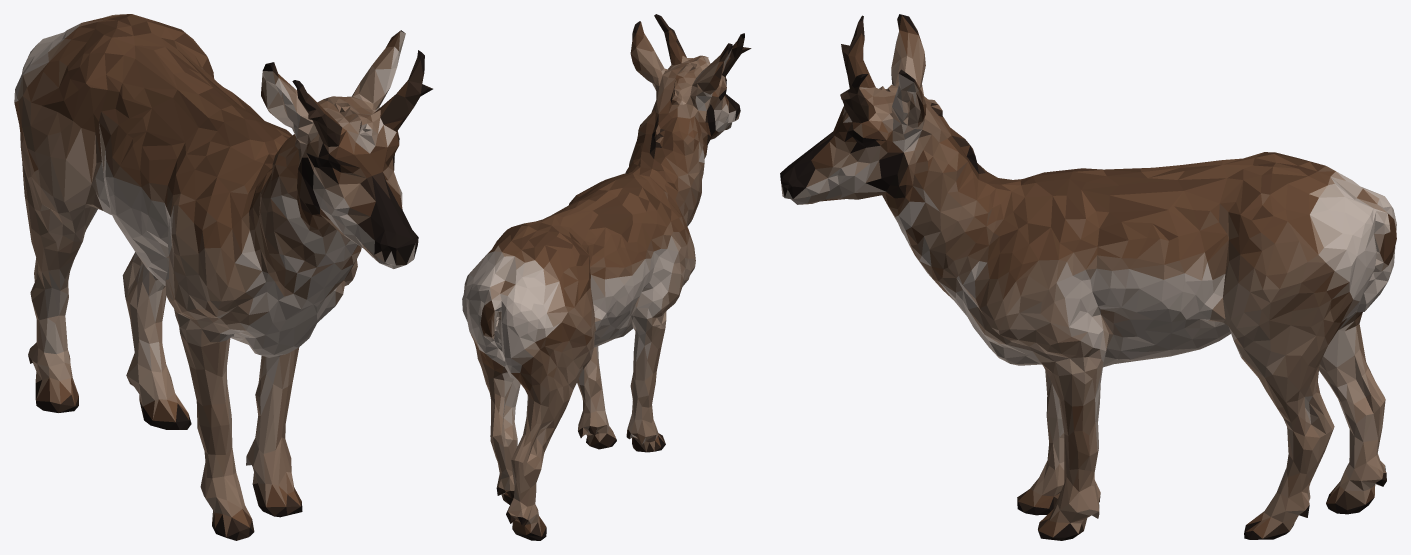
Rendered from antilocapra_americana.glb.
The picture shows the model from 3 angles, left to right: view 1: azimuth 30°, elevation 25°; view 2: azimuth 150°, elevation 25°; view 3: azimuth 270°, elevation 25°; orthographic projection. The views are drawn at different scales.
Parts seen in each view (by area): view 1: lod0; view 2: lod0; view 3: lod0.
Part boxes in pixels (x1=…): lod0: x1=14, y1=14, x2=432, y2=540; lod0: x1=462, y1=14, x2=751, y2=540; lod0: x1=780, y1=14, x2=1396, y2=540.
Size of what is drawn, in the model's own units: 0.2882 by 0.8483 by 0.9882.
